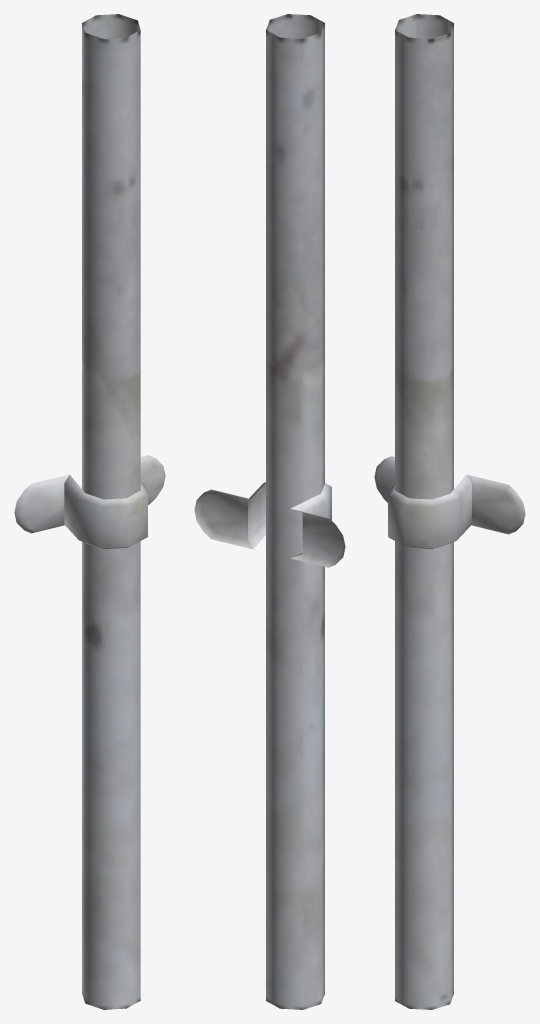
Rendered from SM_Pipe_50_Straight_01a.glb.
The picture shows the model from 3 angles, left to right: view 1: azimuth 30°, elevation 25°; view 2: azimuth 150°, elevation 25°; view 3: azimuth 330°, elevation 25°; orthographic projection.
Visible parts, largest first — view 1: SM_Pipe_50_Straight_01a; view 2: SM_Pipe_50_Straight_01a; view 3: SM_Pipe_50_Straight_01a.
Part boxes in pixels (bbox=[...]): SM_Pipe_50_Straight_01a: bbox=[14, 14, 165, 1009]; SM_Pipe_50_Straight_01a: bbox=[194, 14, 345, 1009]; SM_Pipe_50_Straight_01a: bbox=[374, 14, 525, 1009].
Size of the model in its own units: 0.0815 by 0.5 by 0.0398.
Materials: 1 (1 with a texture image).
